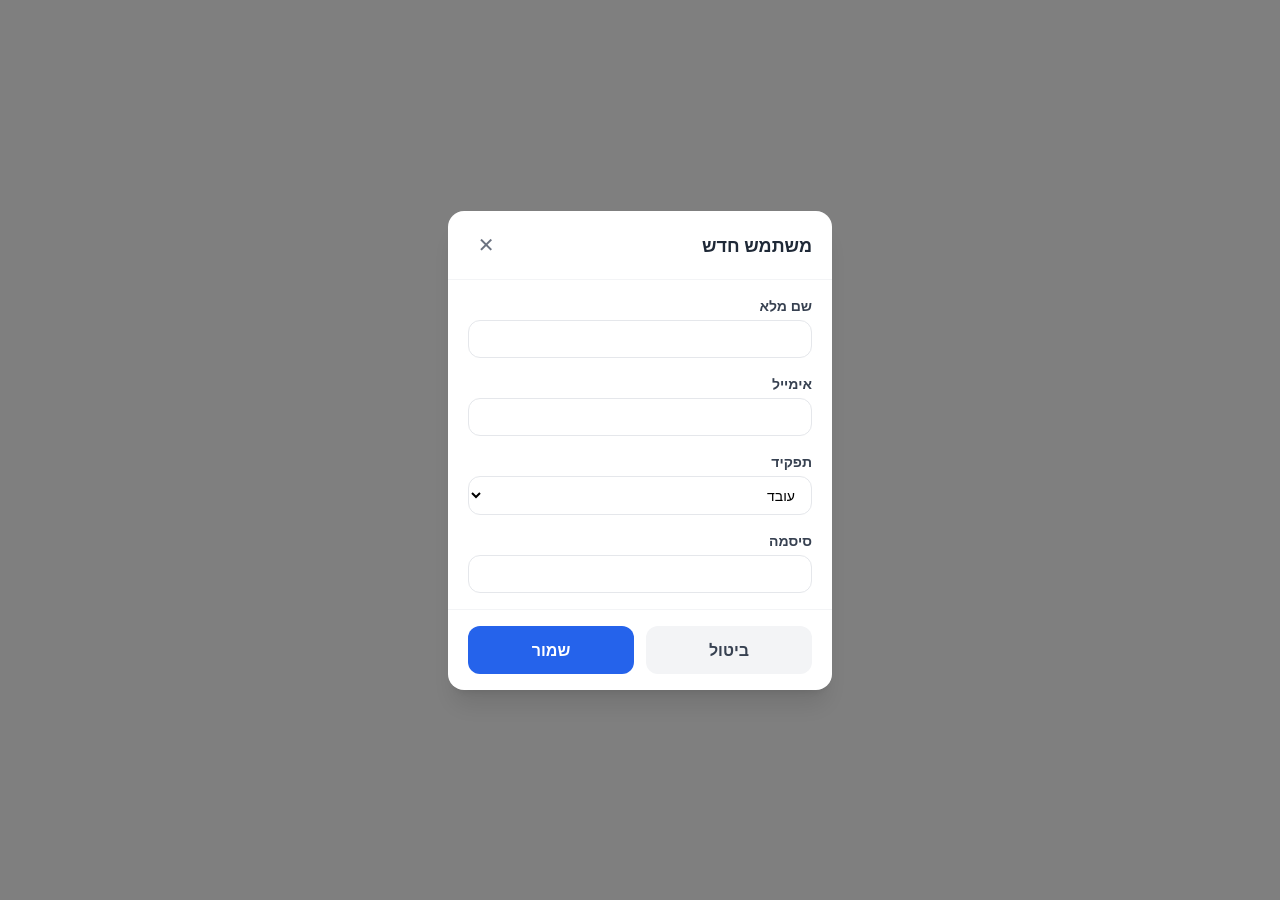
Scenario: API error handling › shows generic error on non-409 API failure
Type "Test User" into the field labelled "שם מלא" at coordinates (640, 338), box [468, 320, 812, 358]
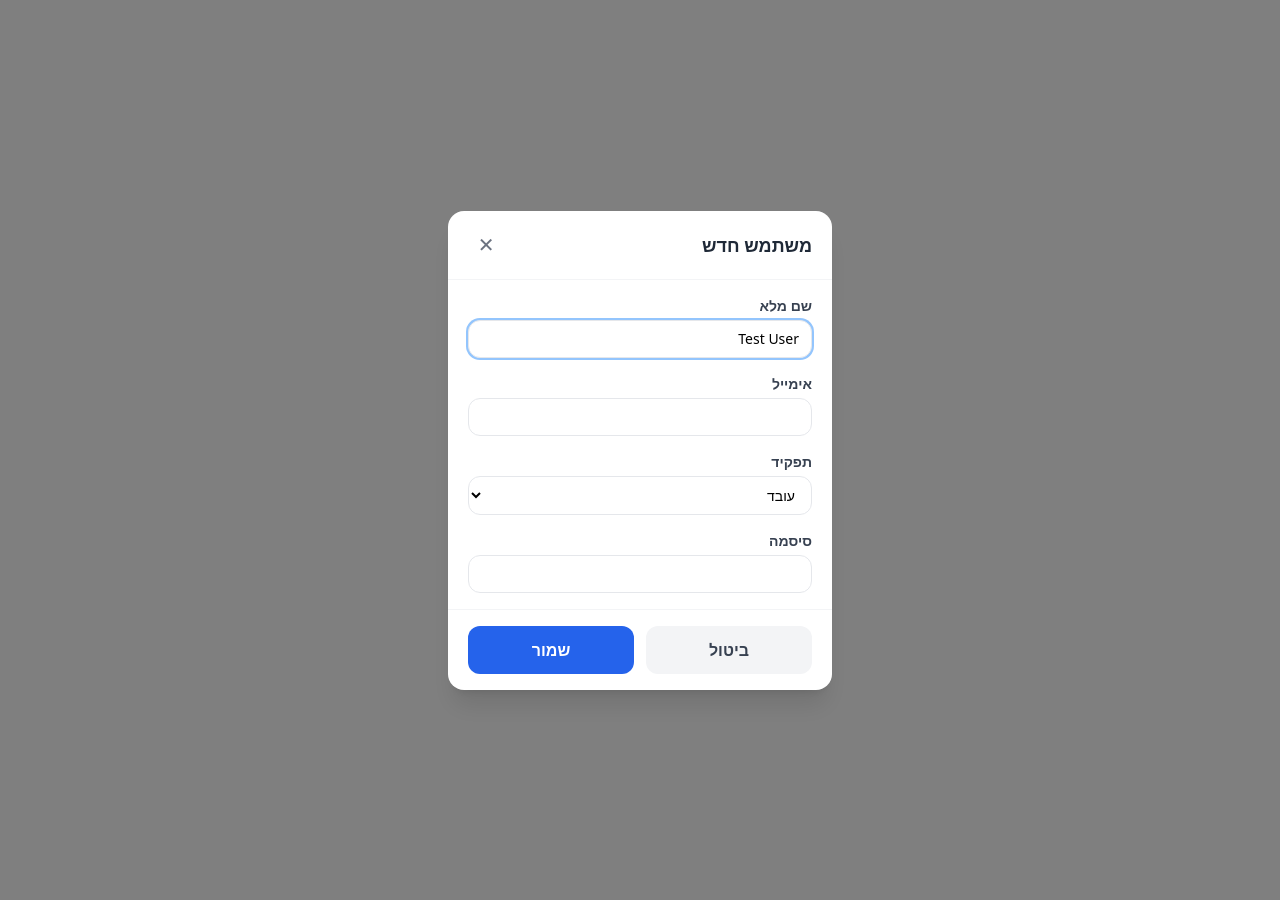
Type "test@example.com" into the field labelled "אימייל" at coordinates (640, 416), box [468, 398, 812, 436]
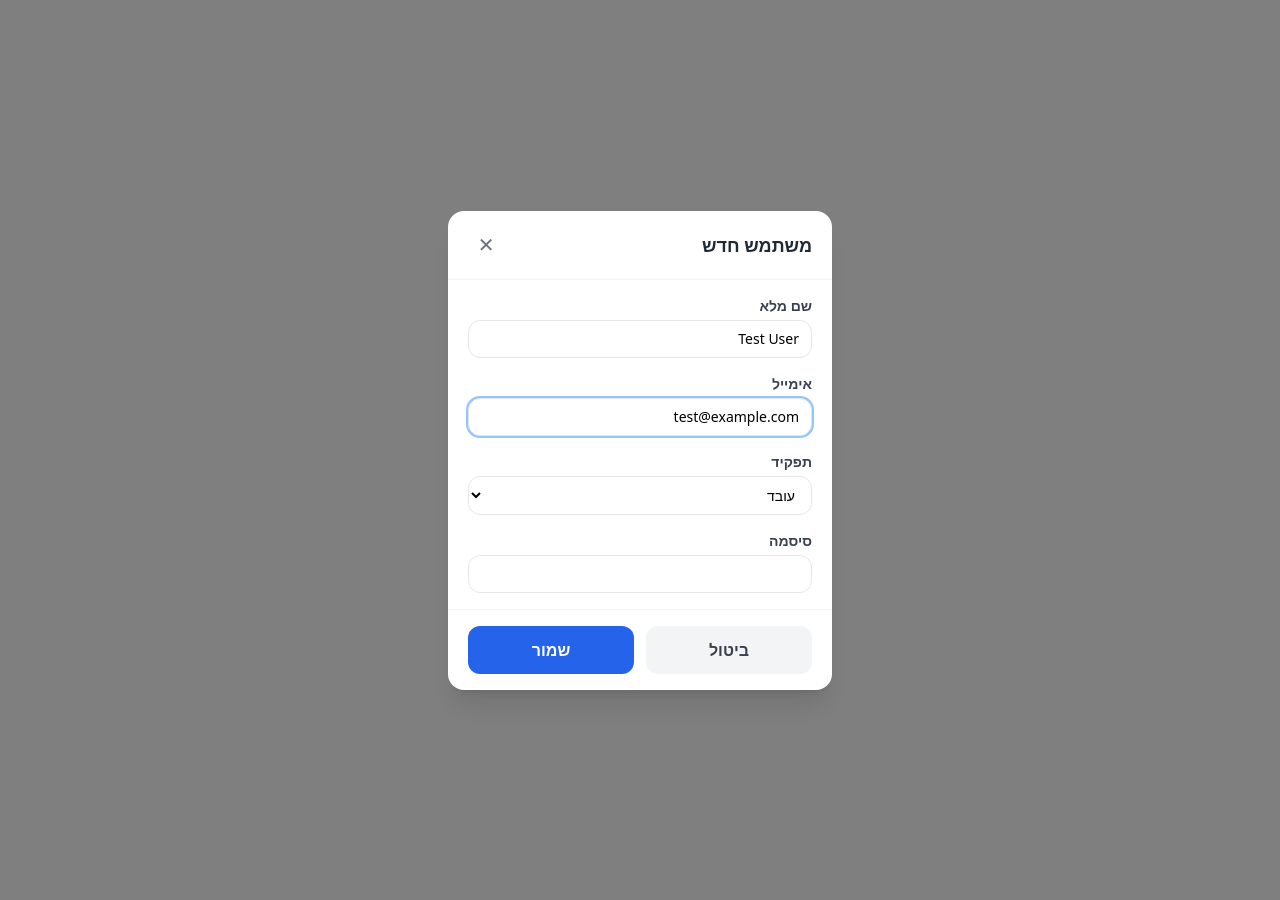
Type "Password1!" into the password field labelled "סיסמה" at coordinates (640, 574), box [468, 554, 812, 592]
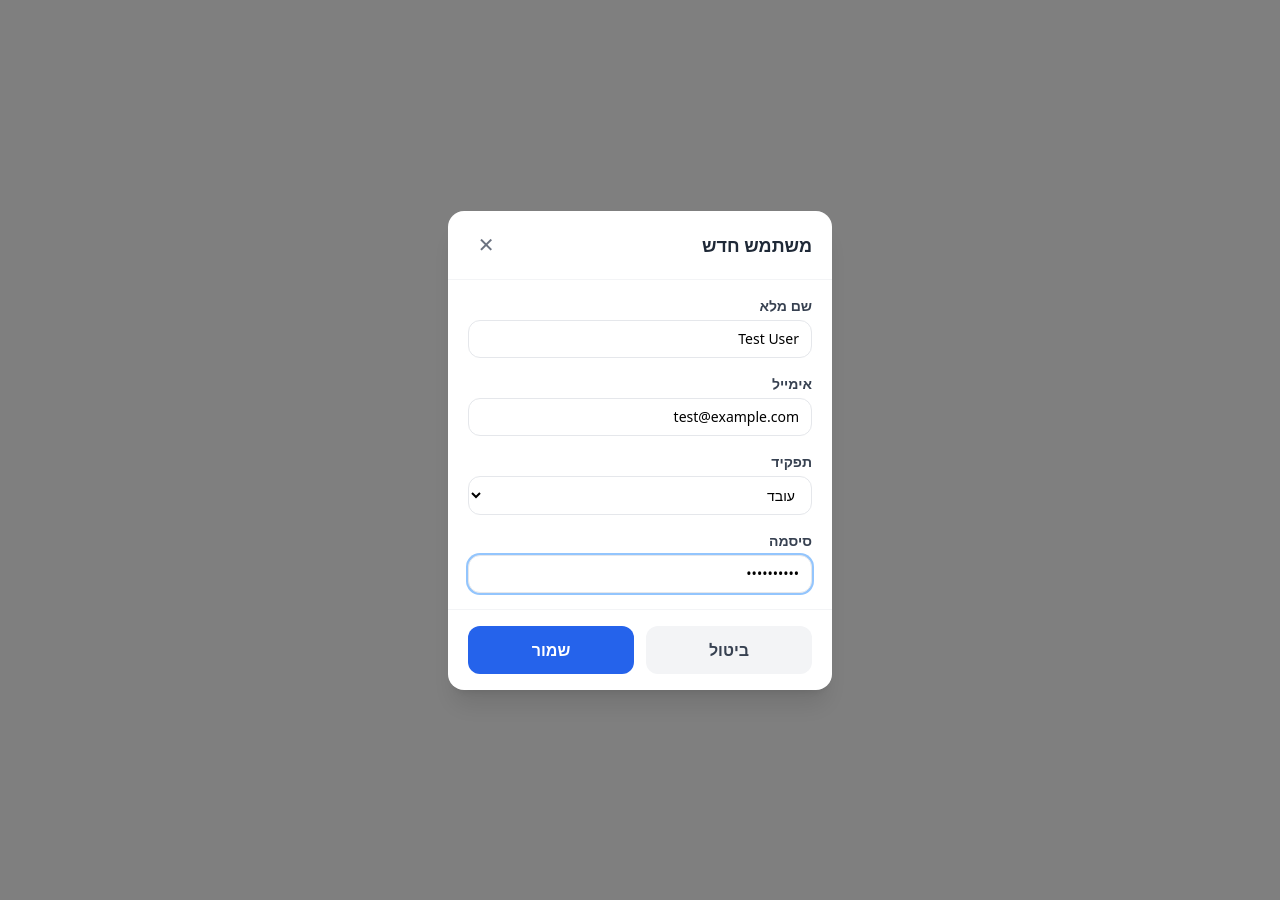
Click the button "שמור" at coordinates (551, 650), box [468, 626, 634, 674]
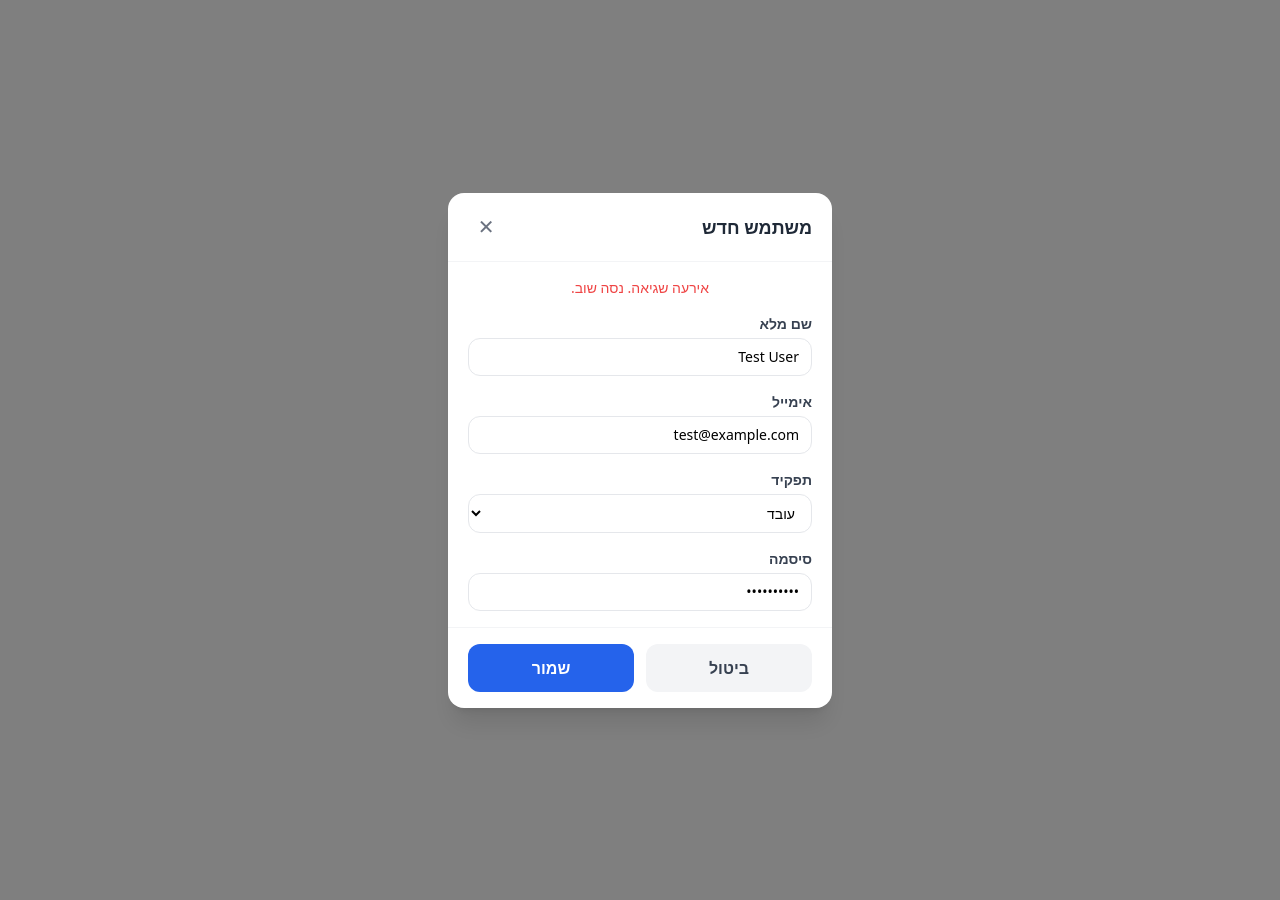
Expected: the message reads "אירעה שגיאה. נסה שוב.", [571, 278, 709, 296]
